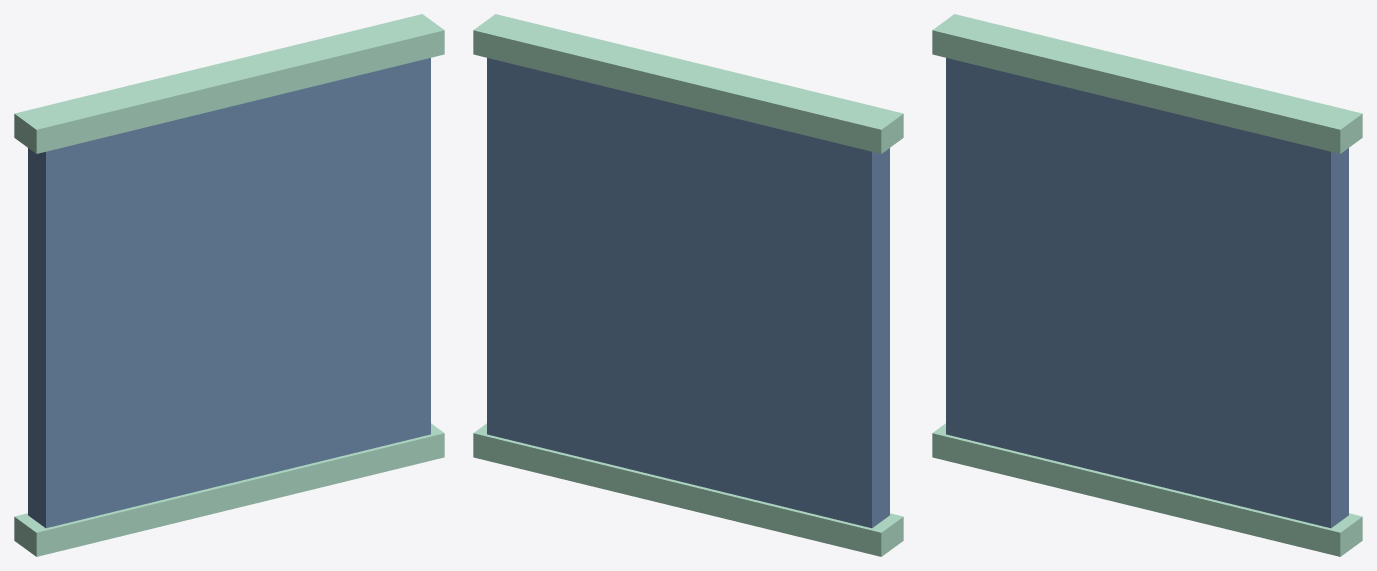
The model's file is periodic-tile.glb.
3 views of the same model, side by side, from view 1: azimuth 30°, elevation 25°; view 2: azimuth 150°, elevation 25°; view 3: azimuth 330°, elevation 25° (orthographic).
Visible parts, largest first — view 1: tile, tile_border, tile_border_bottom; view 2: tile, tile_border, tile_border_bottom; view 3: tile, tile_border, tile_border_bottom.
Part boxes in pixels (bbox=[...]): tile: bbox=[28, 58, 430, 528]; tile_border: bbox=[14, 14, 444, 153]; tile_border_bottom: bbox=[14, 423, 444, 556]; tile: bbox=[487, 58, 889, 528]; tile_border: bbox=[473, 14, 903, 153]; tile_border_bottom: bbox=[473, 423, 903, 556]; tile: bbox=[946, 58, 1348, 528]; tile_border: bbox=[932, 14, 1362, 153]; tile_border_bottom: bbox=[932, 423, 1362, 556].
Size of the model in its own units: 1.41 by 1.41 by 0.1331.
